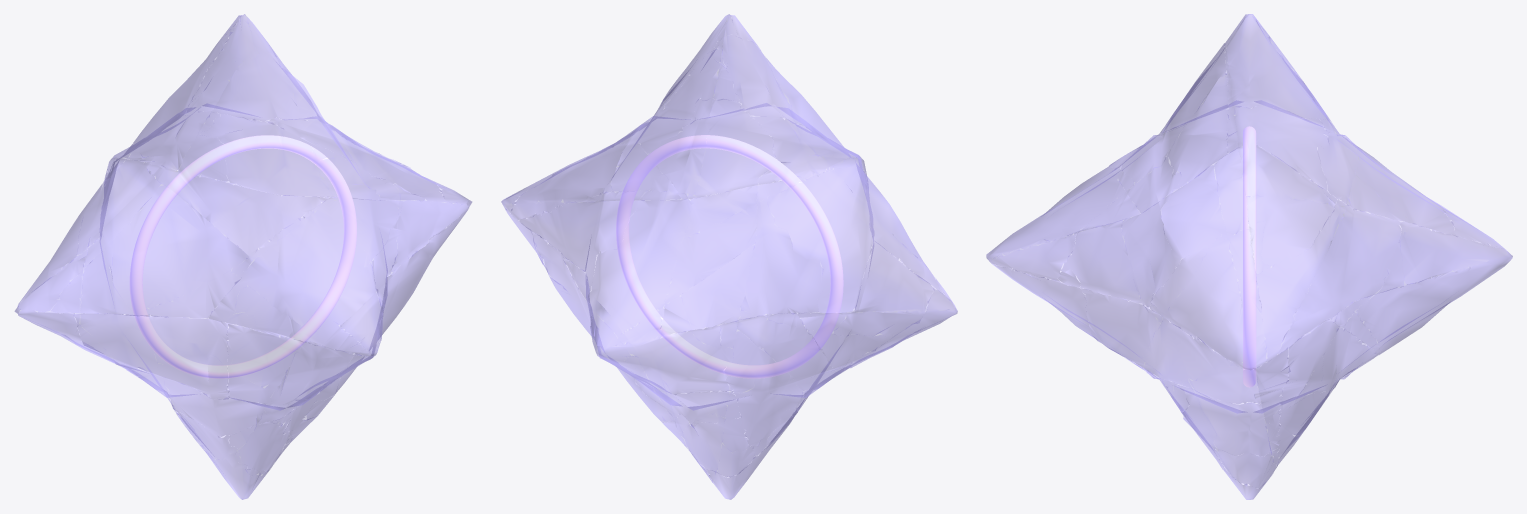
File: ventures.glb
3 views of the same model, side by side, from view 1: azimuth 30°, elevation 25°; view 2: azimuth 150°, elevation 25°; view 3: azimuth 270°, elevation 25° (orthographic).
Visible parts, largest first — view 1: mesh_node, Inner orbit.001; view 2: mesh_node, Inner orbit.001; view 3: mesh_node, Inner orbit.001.
Boxes of the visible parts, x1,y1,x2,y2 form: mesh_node: (14, 14, 471, 499); Inner orbit.001: (129, 135, 356, 378); mesh_node: (501, 14, 957, 499); Inner orbit.001: (616, 135, 843, 378); mesh_node: (986, 14, 1512, 499); Inner orbit.001: (1243, 126, 1256, 387).
Bounding box in the file's own units: 2.76 × 2.8 × 2.76.
